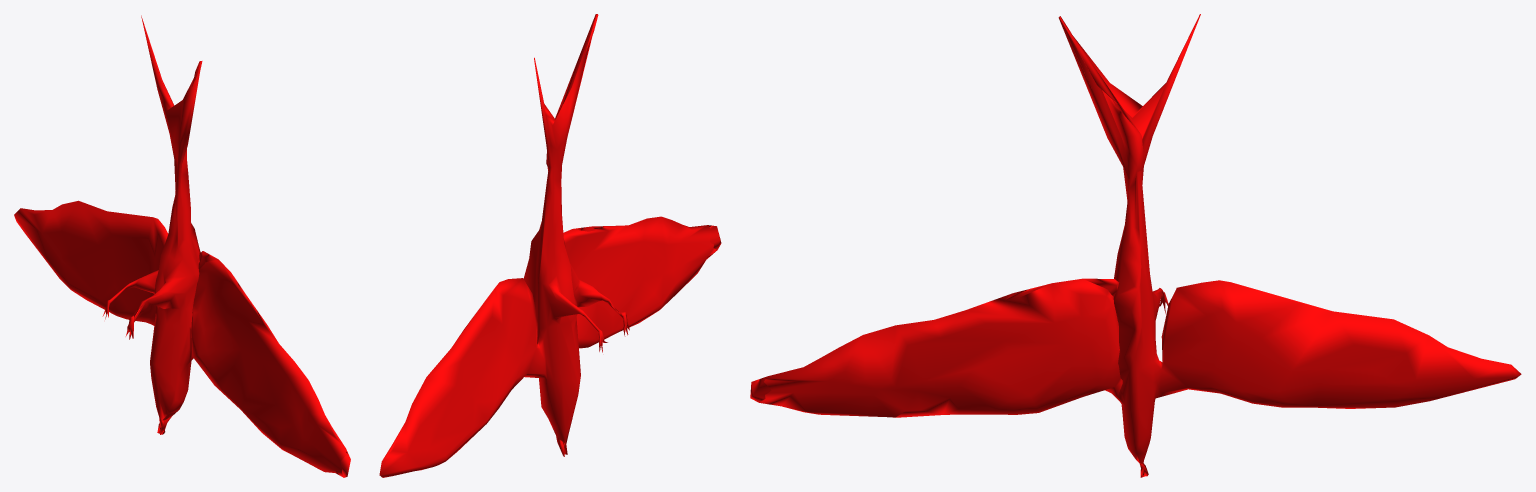
Rendered from PredatorModel.fbx.
The picture shows the model from 3 angles, left to right: view 1: azimuth 30°, elevation 25°; view 2: azimuth 150°, elevation 25°; view 3: azimuth 270°, elevation 25°; orthographic projection. The views are drawn at different scales.
Visible parts, largest first — view 1: Box01; view 2: Box01; view 3: Box01.
Boxes of the visible parts, x1,y1,x2,y2 form: Box01: [14, 15, 350, 477]; Box01: [379, 14, 721, 477]; Box01: [750, 14, 1521, 477].
Bounding box in the file's own units: 5.37 × 22.59 × 33.9.
